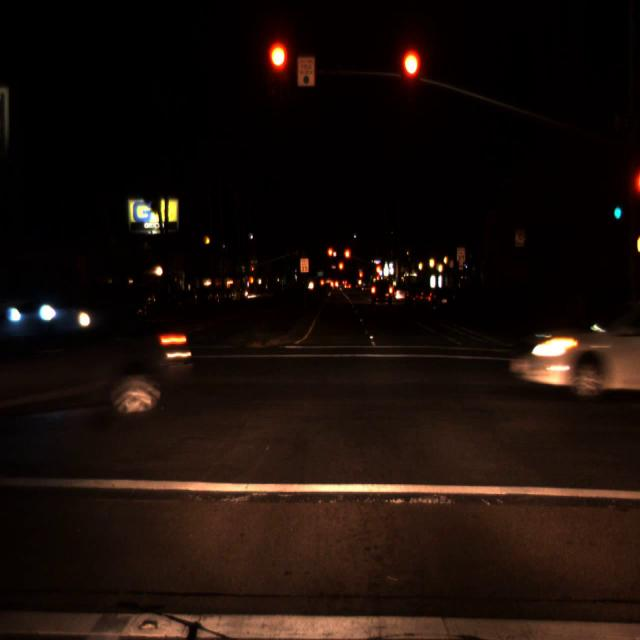stop: (268, 44, 288, 96), (400, 50, 420, 102), (343, 247, 351, 269), (326, 246, 334, 267), (338, 260, 344, 278), (375, 264, 381, 276), (359, 270, 363, 284), (252, 267, 254, 274)
stop traffic light: (268, 44, 288, 96), (400, 50, 420, 102), (343, 247, 351, 269), (326, 246, 334, 267), (338, 260, 344, 278), (375, 264, 381, 276), (359, 270, 363, 284), (252, 267, 254, 274)
